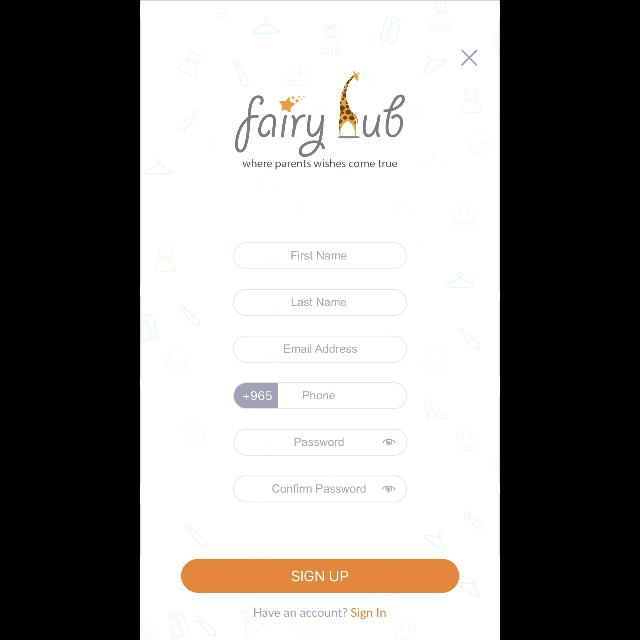icon: (462, 50, 478, 66), (382, 439, 396, 445), (382, 486, 396, 492)
image: (235, 71, 405, 157)
input: (234, 383, 406, 409), (234, 289, 406, 315), (234, 476, 406, 502), (234, 429, 406, 455), (234, 336, 406, 362), (234, 243, 406, 269)
text: (243, 158, 397, 170), (255, 608, 348, 616), (350, 608, 386, 618)
textbutton: (181, 559, 459, 593)
